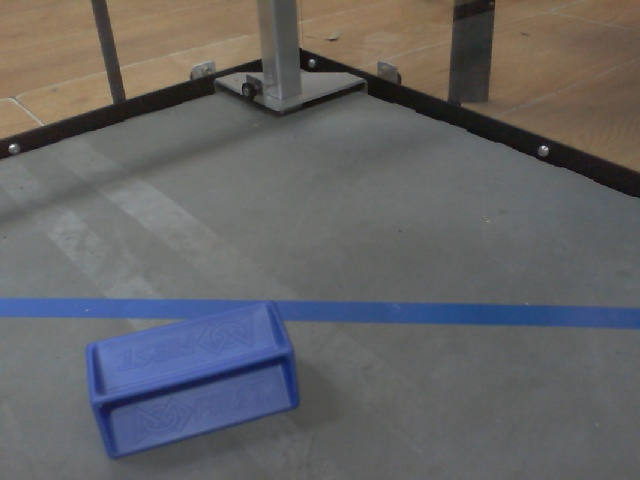BlueSample: (75, 299, 300, 463)
